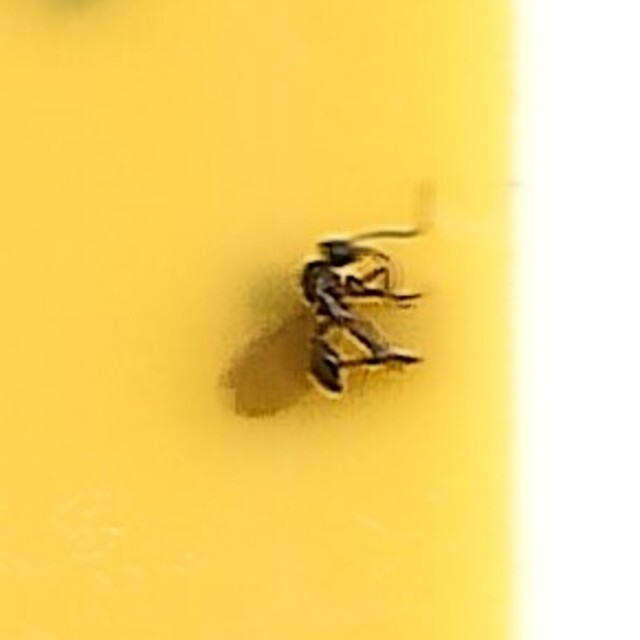Hymenoptera: (220, 221, 420, 419)
